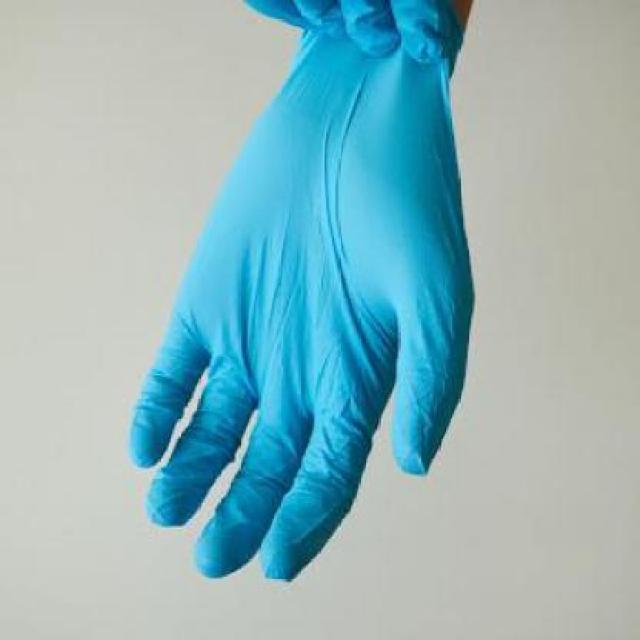gloved_hand: (119, 15, 493, 583)
